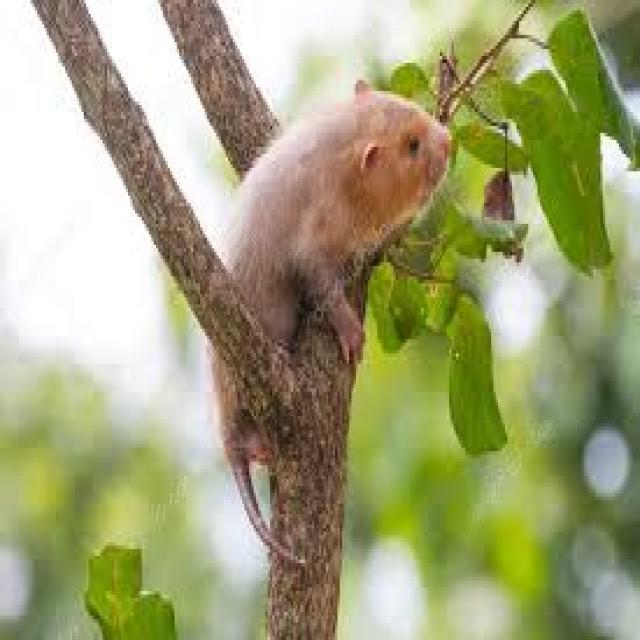Rat: (144, 34, 463, 402)
